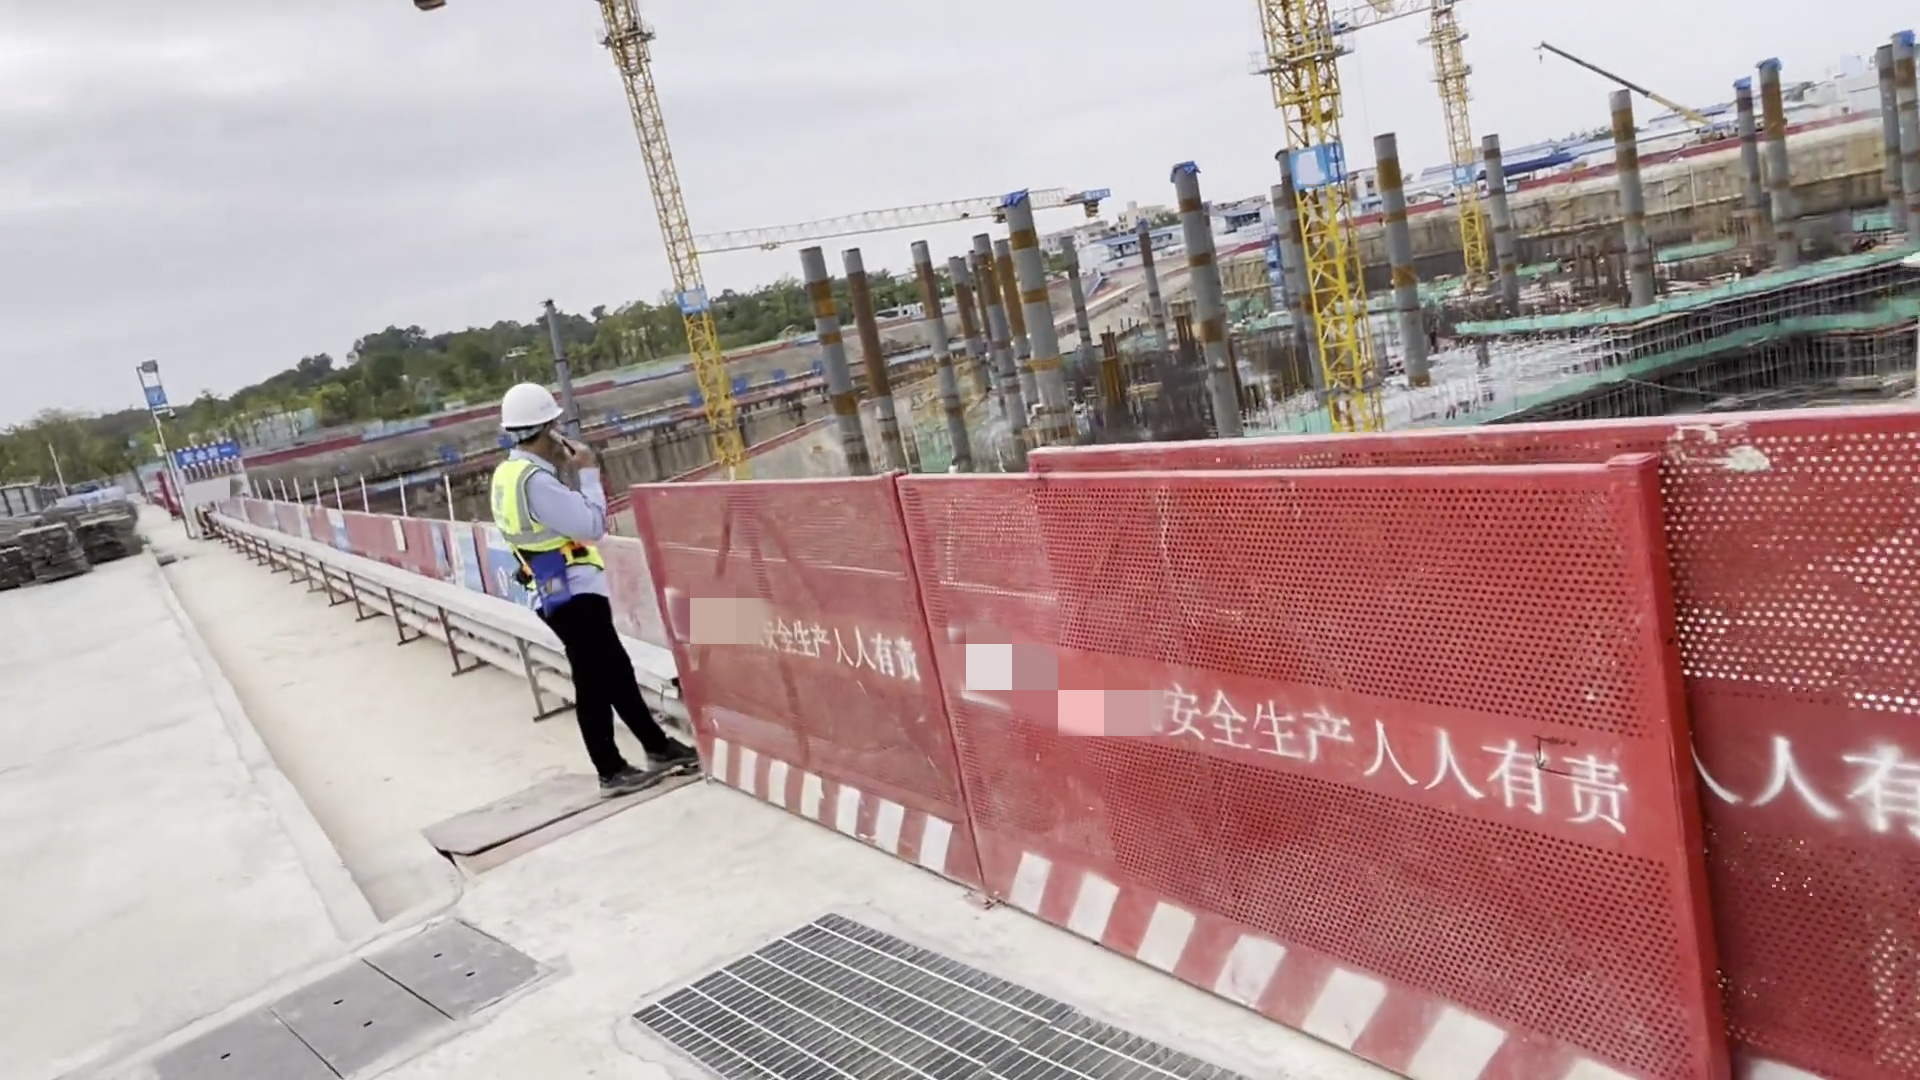fence: (928, 458, 1707, 1080), (1656, 413, 1920, 1052), (639, 473, 969, 888)
helmet: (498, 384, 564, 428)
person: (487, 383, 695, 795)
slogan: (485, 527, 528, 605), (448, 524, 479, 589), (361, 419, 429, 443), (375, 471, 441, 493), (175, 443, 234, 468), (619, 365, 685, 387), (761, 377, 823, 397), (322, 506, 350, 549), (620, 416, 673, 436), (1324, 142, 1348, 173), (1450, 167, 1466, 181)
vest: (490, 455, 591, 580)
